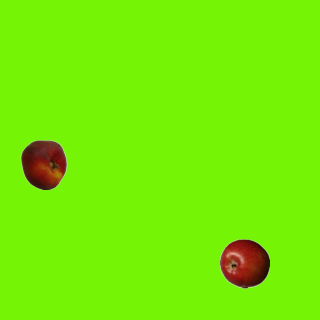Apple Braeburn: (219, 238, 269, 288)
Nectarine Flat: (18, 139, 68, 189)
